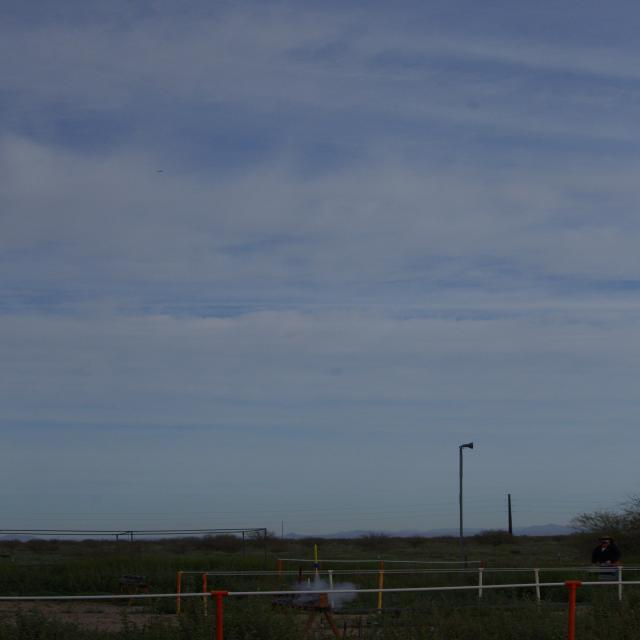Rocket: (296, 565, 304, 590), (313, 544, 320, 568), (307, 575, 311, 592)
